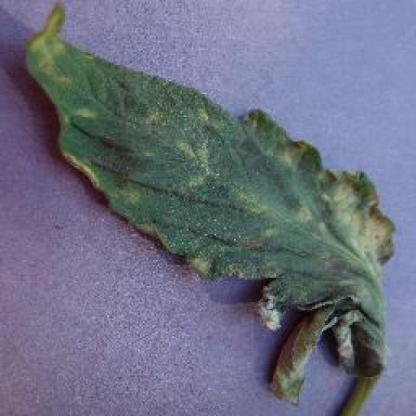Tomato_Leaf_Mold: (27, 5, 396, 329)
